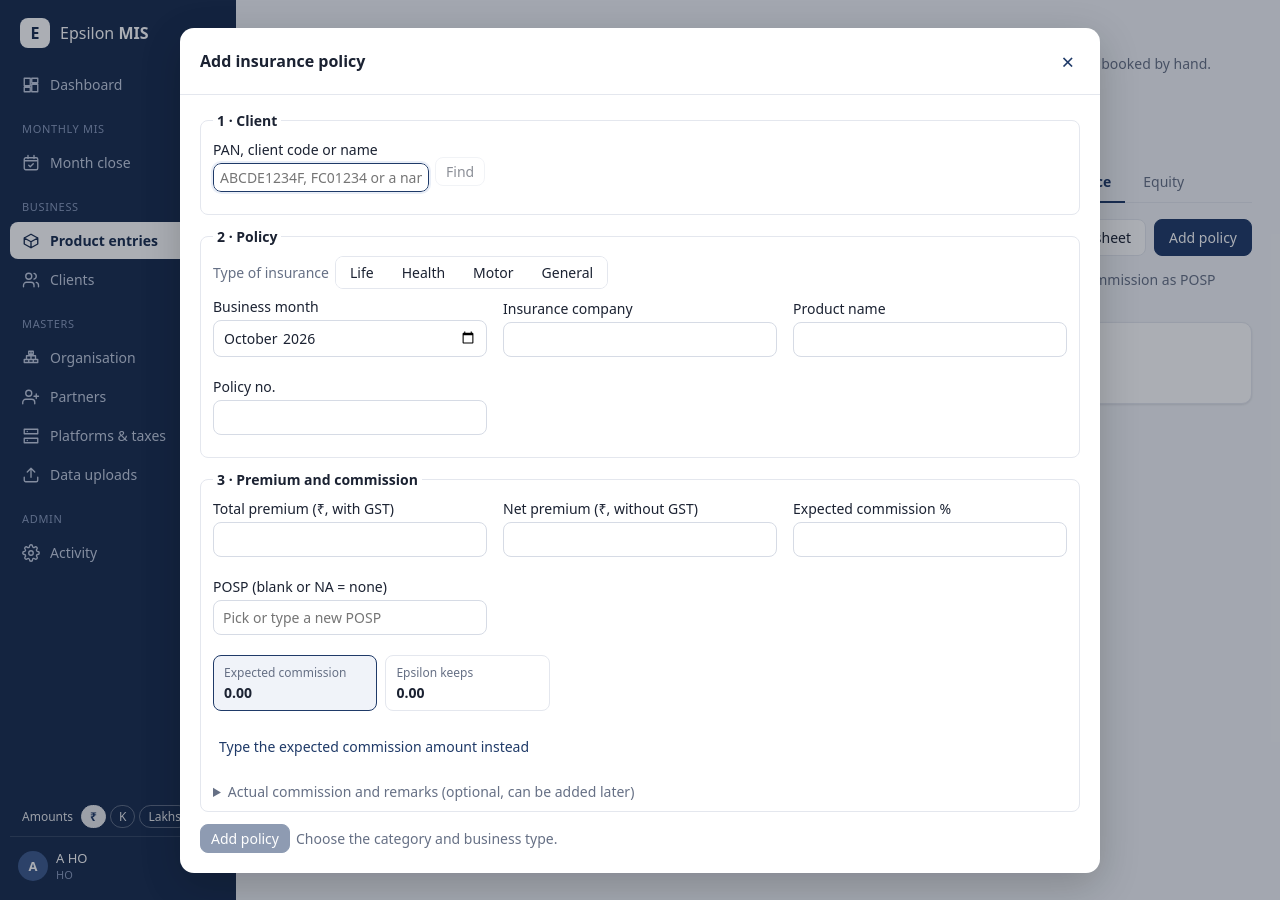
Test: insurance form: each kind of insurance shows its own fields (R-96) › drops a business type the new type does not have, and its sub type
The image size is (1280, 900).
Click the button "Life": click(362, 272) [336,256,388,288]
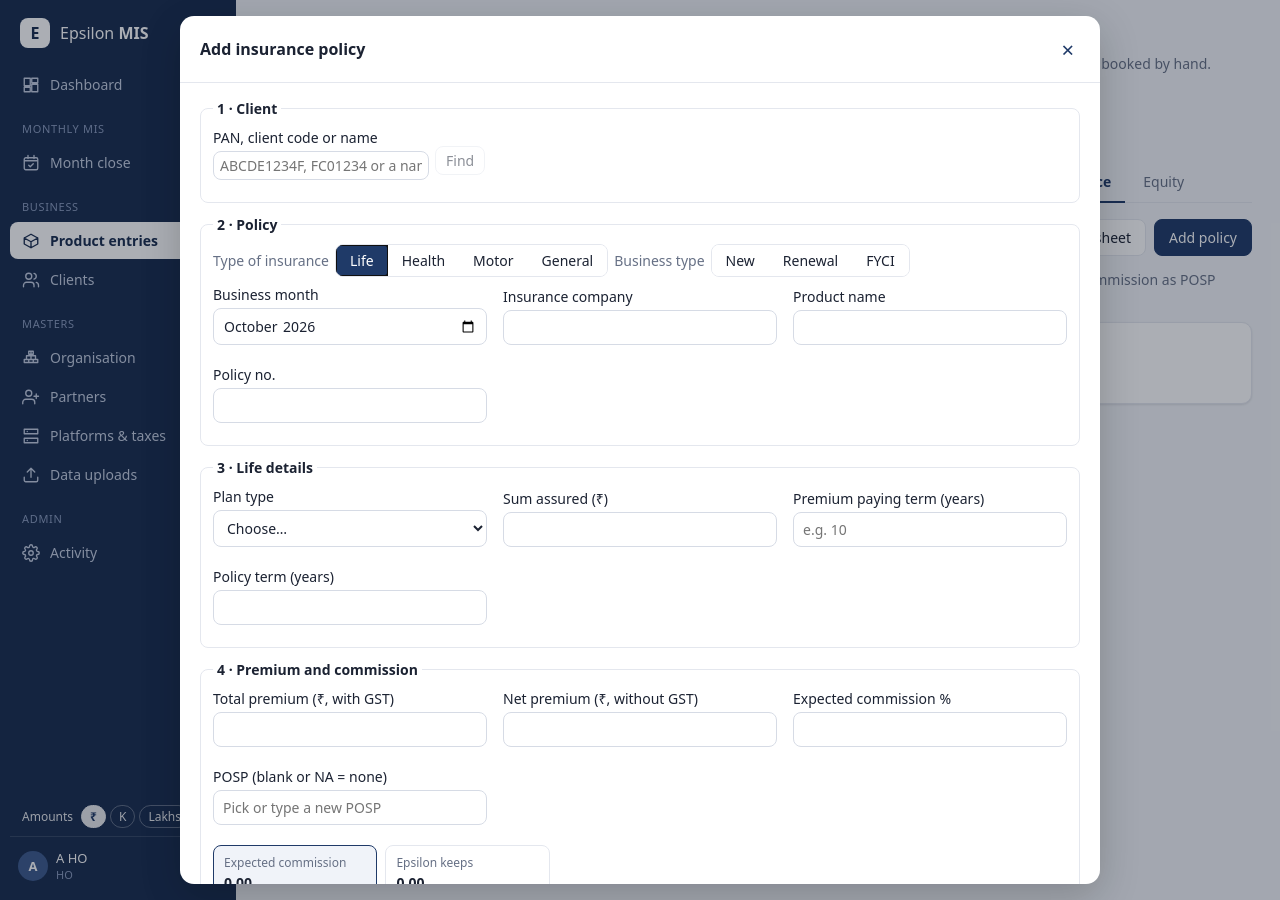
Click the button "FYCI": click(880, 260) [852,245,909,276]
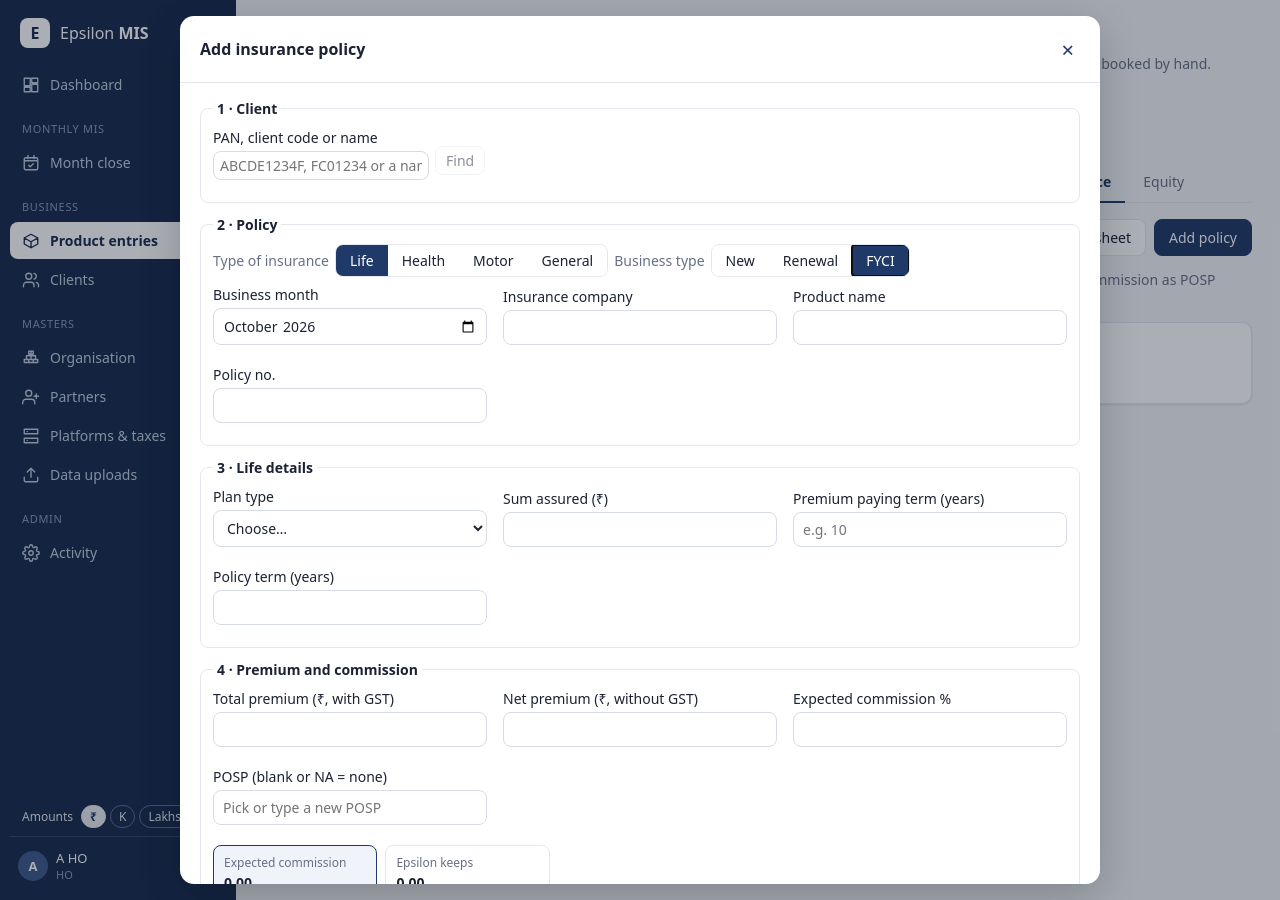
Select "Term" in the dropdown labelled "Plan type": (350, 528) [213,510,487,547]
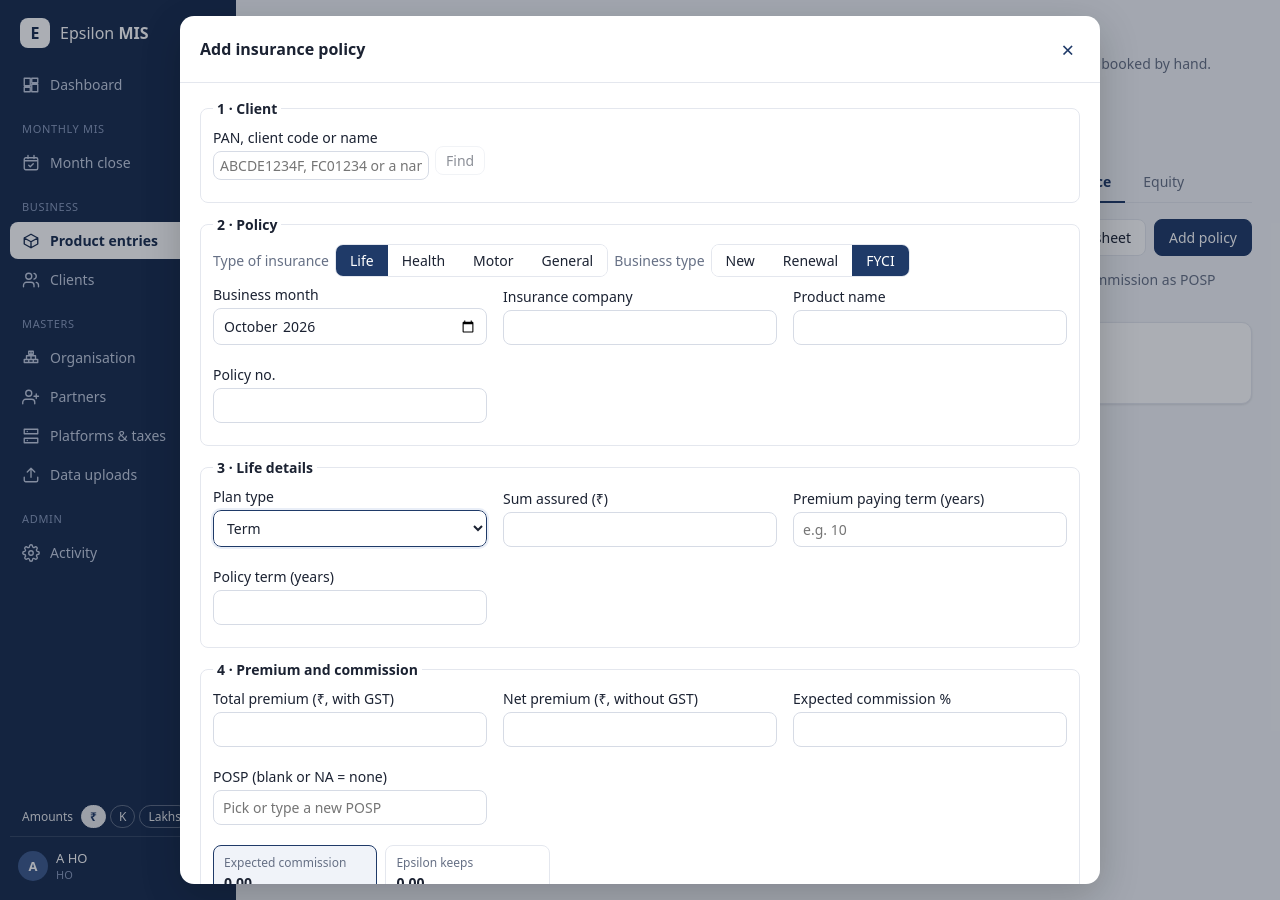
Check: the button "FYCI" has class "on", box [852,245,909,276]
Click the button "Health": click(423, 260) [388,245,459,276]
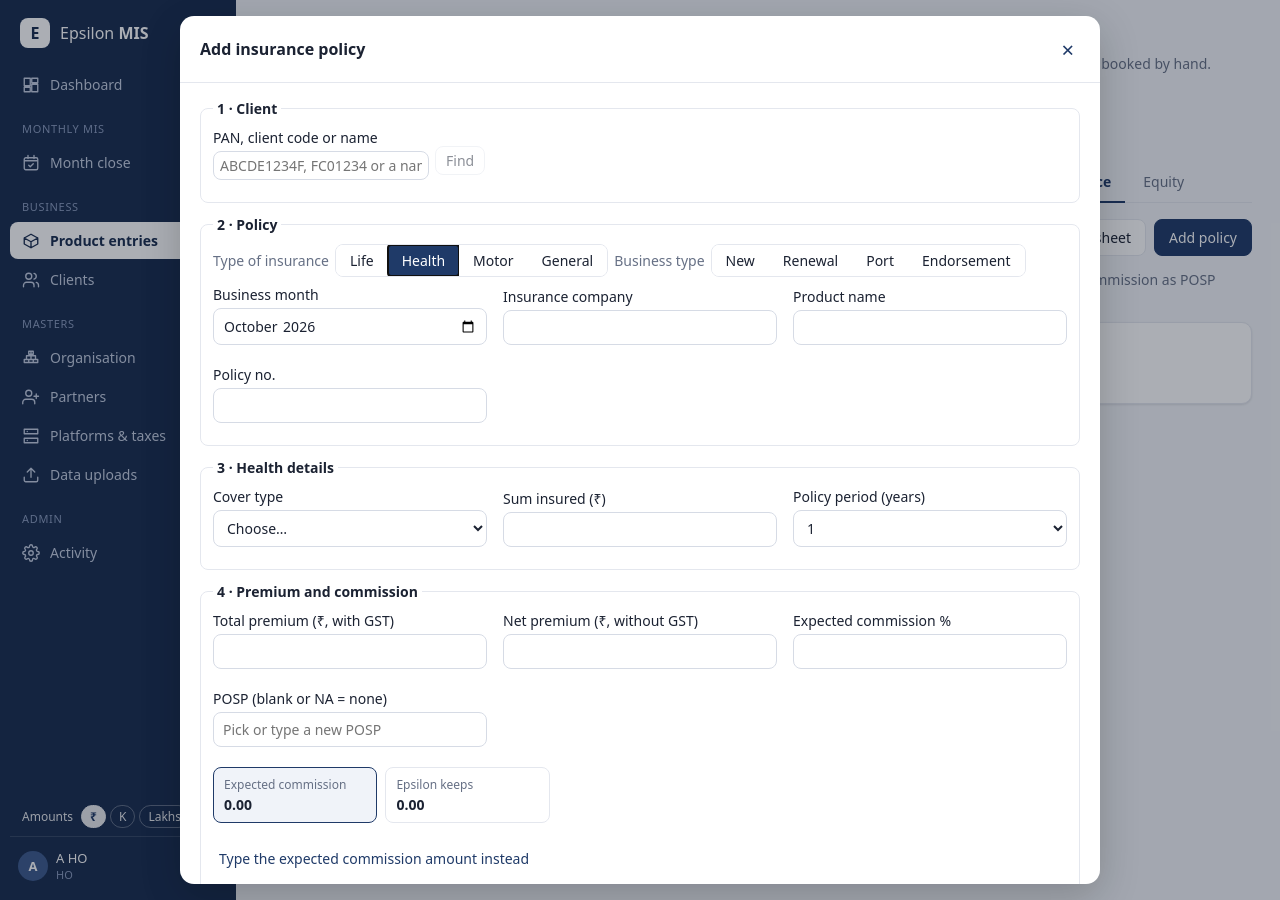
Check: the element "3 · Health details" is shown, box [200,458,1080,570]
Check: the button "FYCI" is gone
